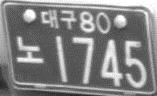0: (96, 11, 111, 36)
1: (53, 34, 69, 84)
4: (99, 38, 122, 88)
5: (123, 39, 148, 89)
7: (71, 35, 95, 86)
8: (79, 10, 96, 34)
노: (15, 35, 46, 66)
대구_O: (39, 7, 77, 30)
